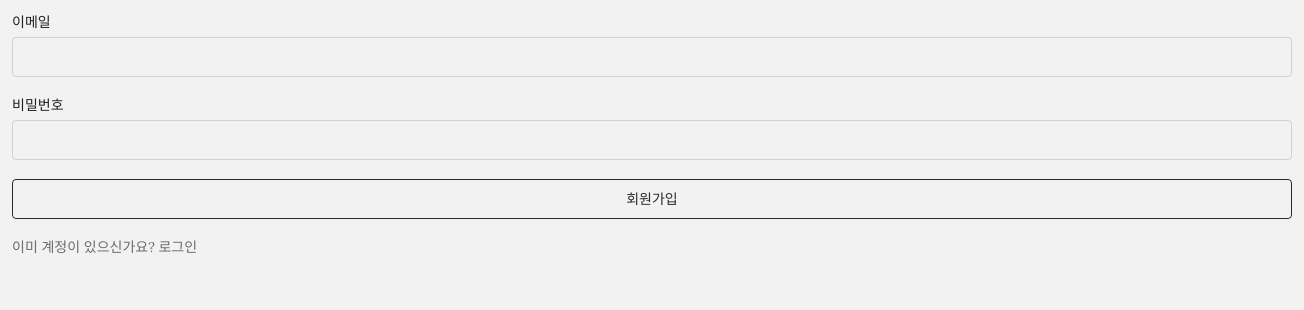
Test: AC-AUTH-031 -- 회원가입 실패 시 정확한 서버 오류 메시지 3종 표시 › (b) 짧은 비밀번호 -- 정확한 메시지, 이동 없음
In the field labelled "이메일": (652, 57) [12,37,1292,77], type "new@example.com"
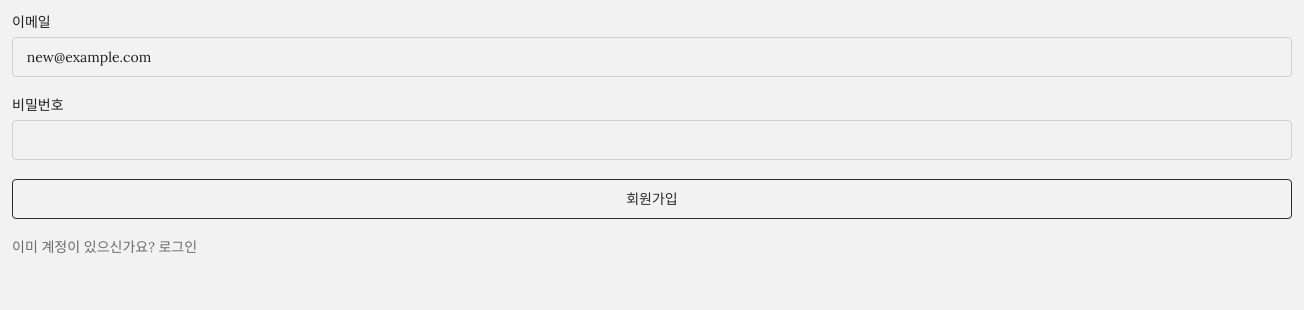
In the password field labelled "비밀번호": (652, 140) [12,120,1292,160], type "short"
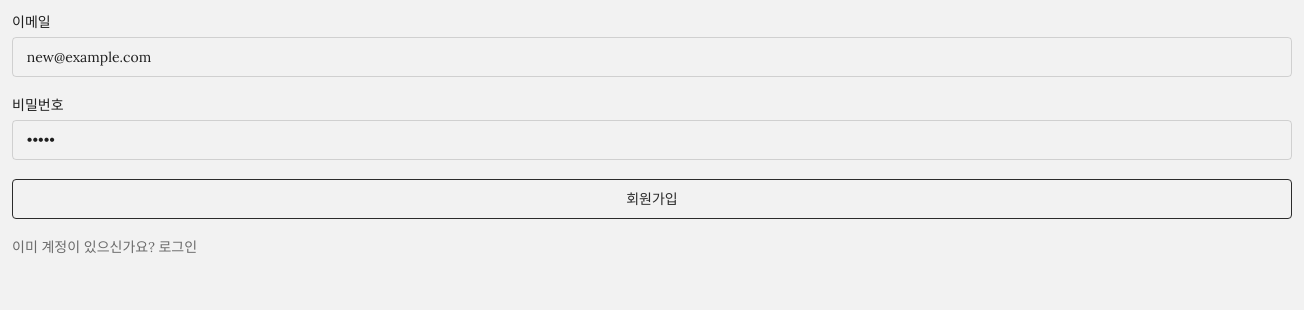
Click the button "회원가입": (652, 199) [12,179,1292,219]
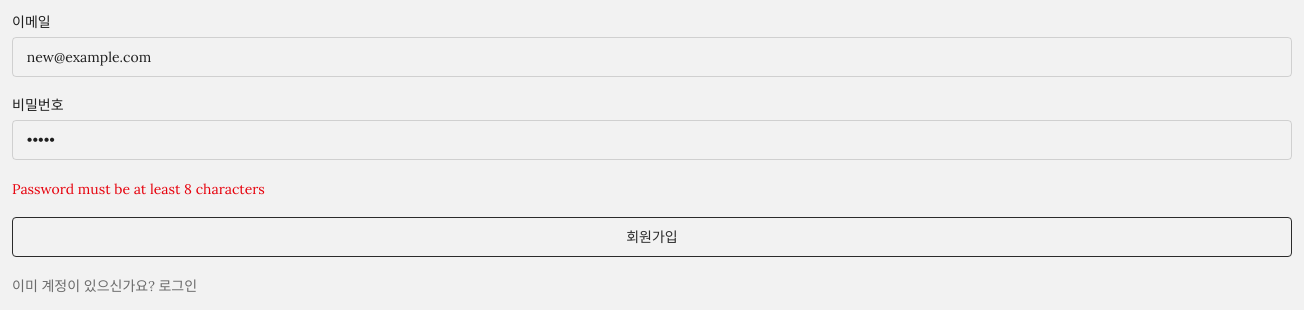
Now the message reads "Password must be at least 8 characters", box [12,180,265,198]
